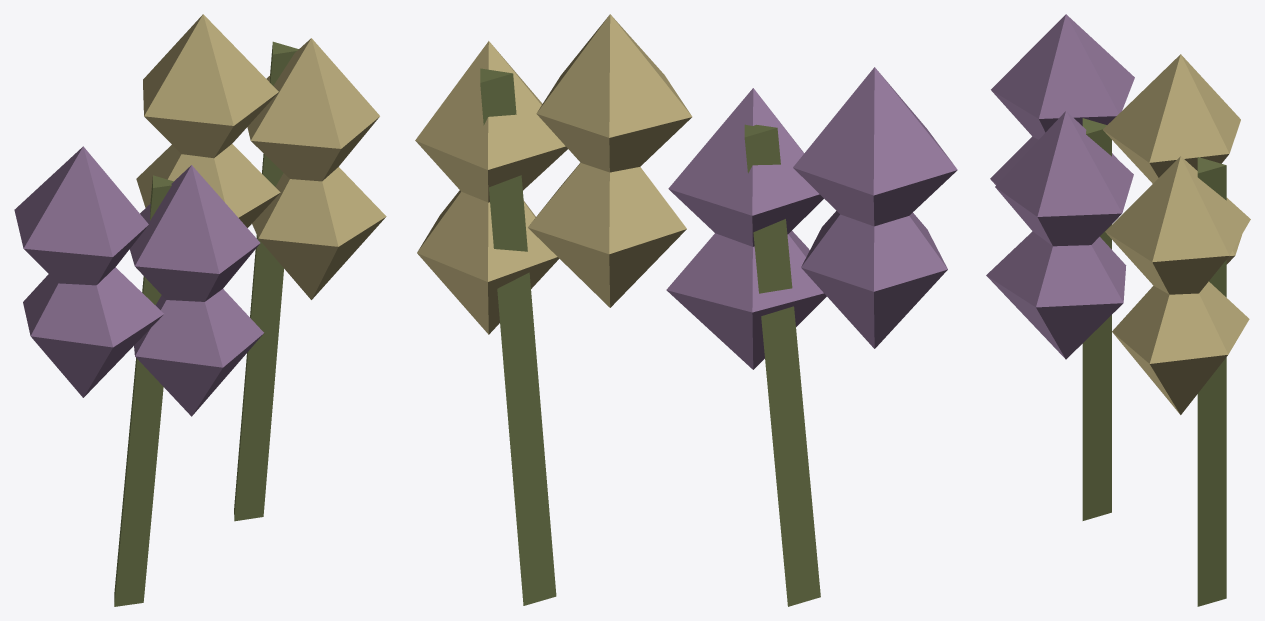
The model's file is foxgloves.glb.
The picture shows the model from 3 angles, left to right: view 1: azimuth 30°, elevation 25°; view 2: azimuth 150°, elevation 25°; view 3: azimuth 270°, elevation 25°; orthographic projection. The views are drawn at different scales.
Visible parts, largest first — view 1: Foxgloves; view 2: Foxgloves; view 3: Foxgloves.
Boxes of the visible parts, bbox=[...] form: Foxgloves: bbox=[14, 14, 386, 606]; Foxgloves: bbox=[415, 14, 957, 606]; Foxgloves: bbox=[986, 14, 1250, 606].
Size of the model in its own units: 0.2667 by 0.3249 by 0.1501.
